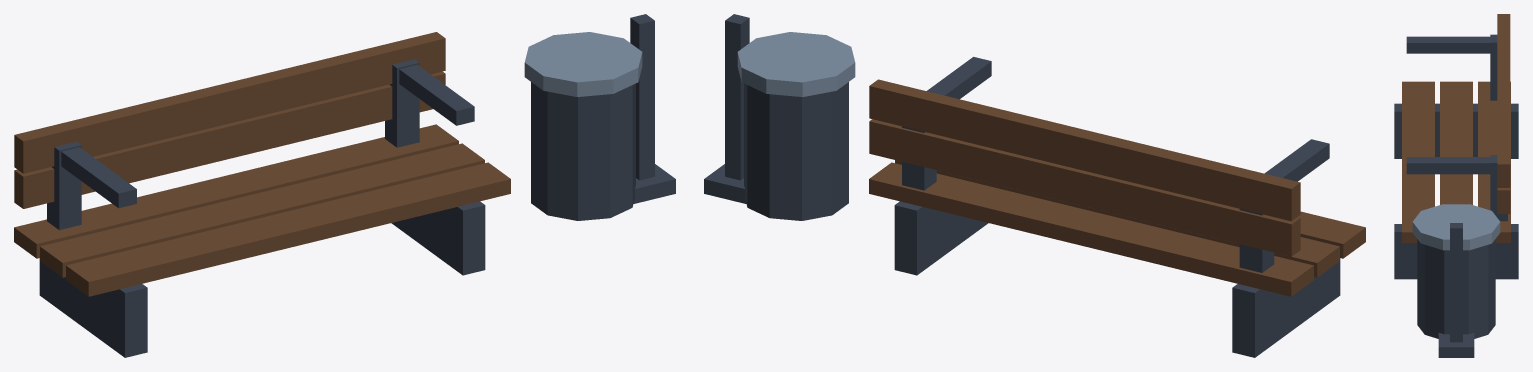
File: cittaPanchina.glb
The picture shows the model from 3 angles, left to right: view 1: azimuth 30°, elevation 25°; view 2: azimuth 150°, elevation 25°; view 3: azimuth 270°, elevation 25°; orthographic projection. The views are drawn at different scales.
Parts seen in each view (by area): view 1: cittaPanchina_bark, cittaPanchina_steelDark, cittaPanchina_steel; view 2: cittaPanchina_bark, cittaPanchina_steelDark, cittaPanchina_steel; view 3: cittaPanchina_steelDark, cittaPanchina_bark, cittaPanchina_steel.
Part boxes in pixels (bbox=[...]): cittaPanchina_bark: bbox=[14, 32, 510, 296]; cittaPanchina_steelDark: bbox=[39, 14, 675, 357]; cittaPanchina_steel: bbox=[524, 32, 642, 96]; cittaPanchina_bark: bbox=[869, 79, 1365, 296]; cittaPanchina_steelDark: bbox=[704, 14, 1340, 357]; cittaPanchina_steel: bbox=[737, 32, 855, 96]; cittaPanchina_steelDark: bbox=[1394, 34, 1518, 357]; cittaPanchina_bark: bbox=[1402, 14, 1510, 242]; cittaPanchina_steel: bbox=[1412, 204, 1500, 250].
Size of the model in its own units: 4.35 by 1.17 by 1.05.
